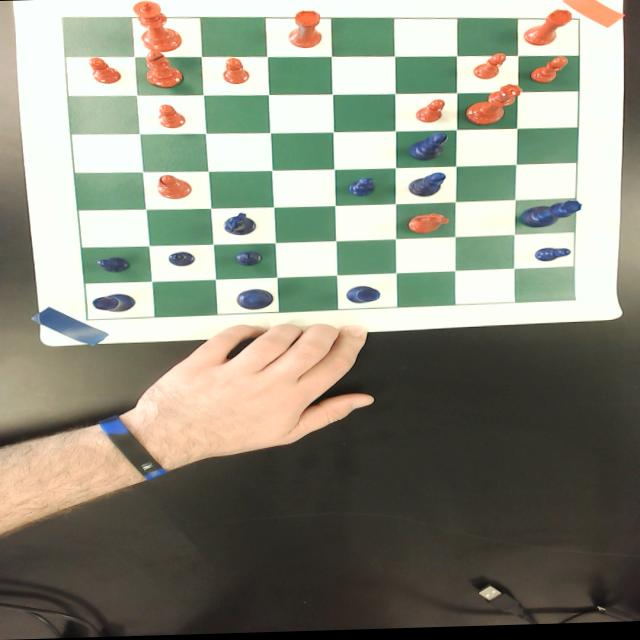B: (408, 134, 448, 163), (408, 174, 448, 199)
K: (236, 290, 274, 311)
N: (218, 212, 262, 237)
P: (96, 256, 130, 273), (534, 249, 572, 264), (347, 179, 375, 198), (167, 251, 197, 267), (235, 251, 263, 266)
Q: (521, 203, 583, 230)
R: (91, 293, 137, 313), (347, 287, 382, 306)
b: (144, 50, 184, 89), (157, 175, 193, 199)
k: (132, 0, 182, 49)
n: (406, 215, 450, 237)
p: (85, 56, 124, 84), (530, 59, 570, 86), (473, 55, 508, 81), (154, 103, 188, 129), (220, 58, 252, 85), (416, 101, 446, 125)
q: (465, 86, 522, 127)
r: (524, 11, 574, 49), (288, 11, 324, 50)
